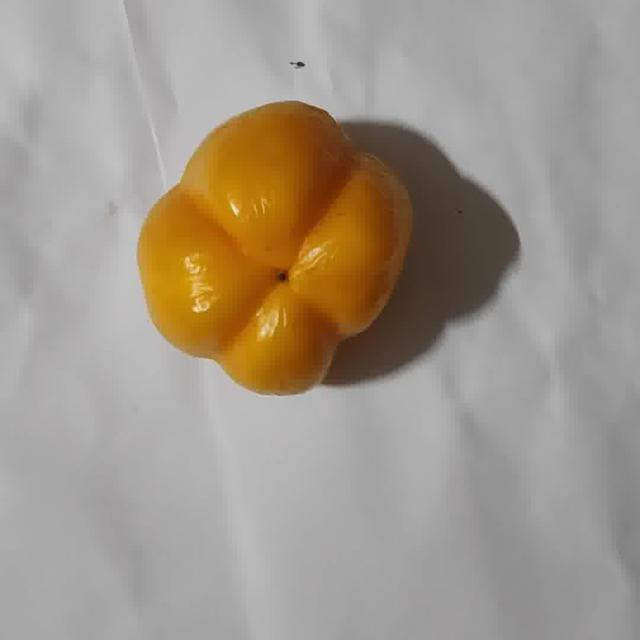Bell Pepper: (137, 102, 411, 394)
